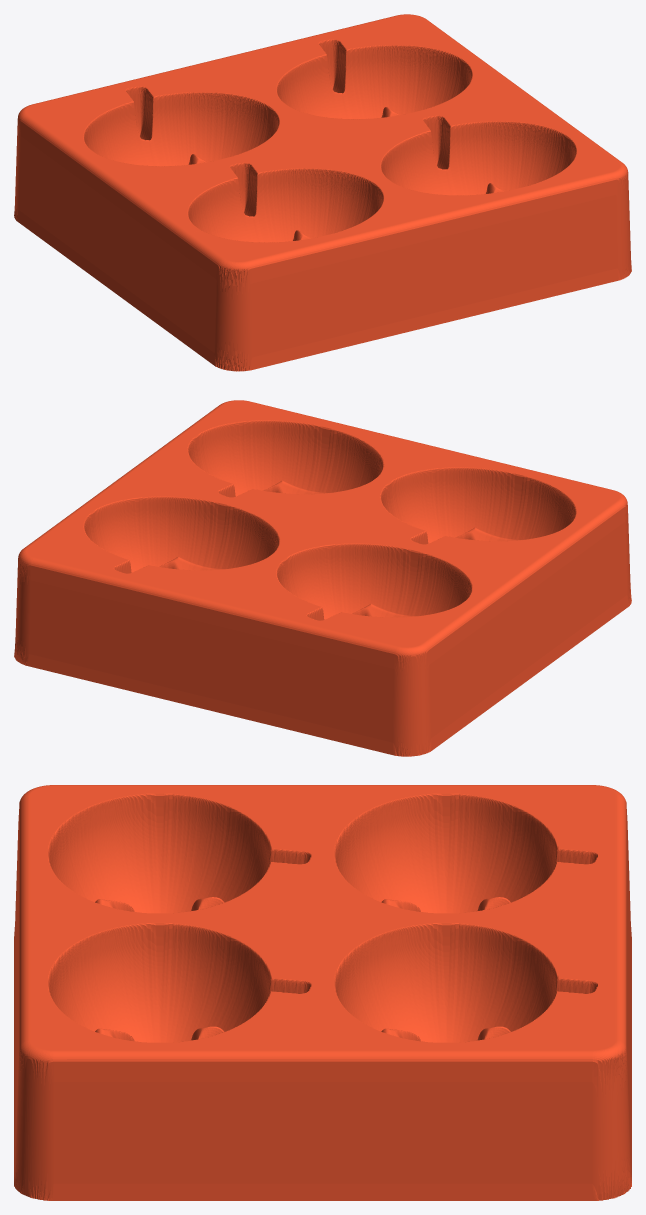
File: mold.glb
The picture shows the model from 3 angles, top to bottom: view 1: azimuth 30°, elevation 25°; view 2: azimuth 150°, elevation 25°; view 3: azimuth 270°, elevation 25°; orthographic projection. The views are drawn at different scales.
Parts seen in each view (by area): view 1: geometry_0; view 2: geometry_0; view 3: geometry_0.
Boxes of the visible parts, x1=… form: geometry_0: x1=14, y1=14, x2=631, y2=371; geometry_0: x1=14, y1=400, x2=631, y2=756; geometry_0: x1=14, y1=785, x2=631, y2=1200.
Bounding box in the file's own units: 0.1493 × 0.036 × 0.1402.
